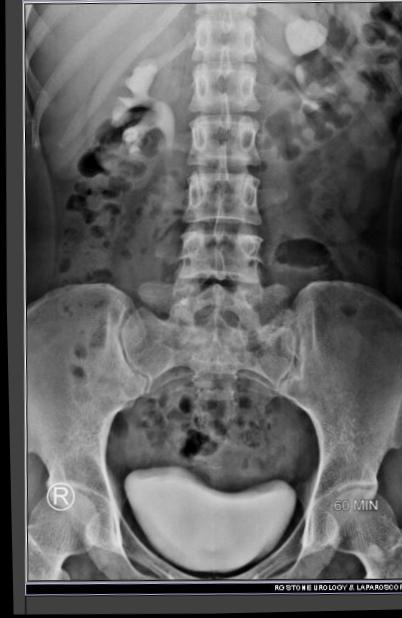bladder: (92, 463, 302, 601)
right kidney: (49, 4, 168, 191)
vertebrae: (179, 44, 253, 104)
